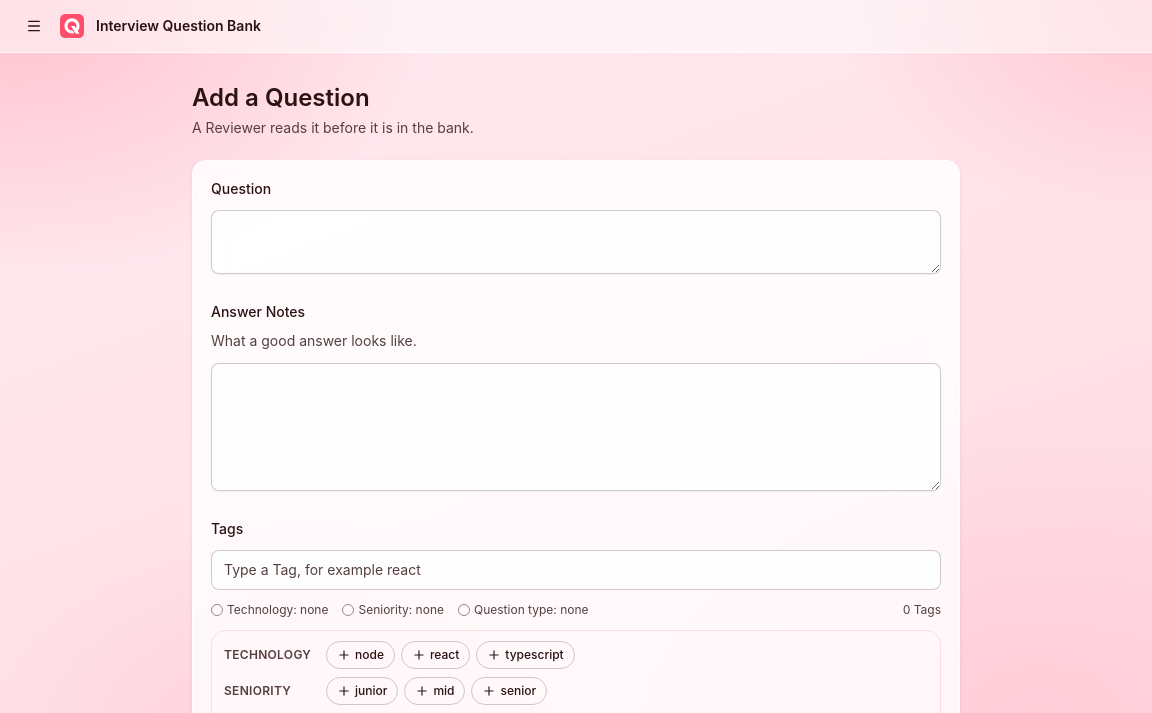
Scenario: adding a Question records where it came from › refuses a Question with no Provenance chosen, before sending anything
The width and height of the screenshot is (1152, 713).
In the text box labelled "Question": (576, 242) [211,210,941,274], type "How would you find a slow query?"
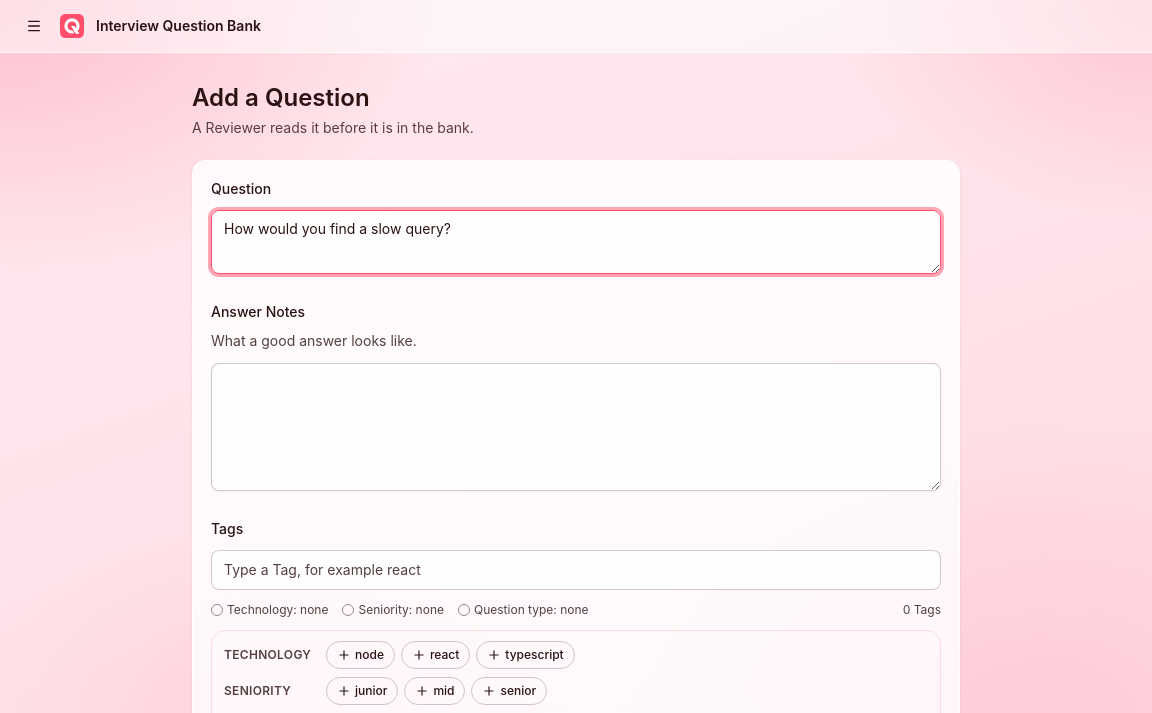
In the text box labelled "Answer Notes": (576, 426) [211,362,941,490], type "Look for EXPLAIN ANALYZE."
(page scrolled)
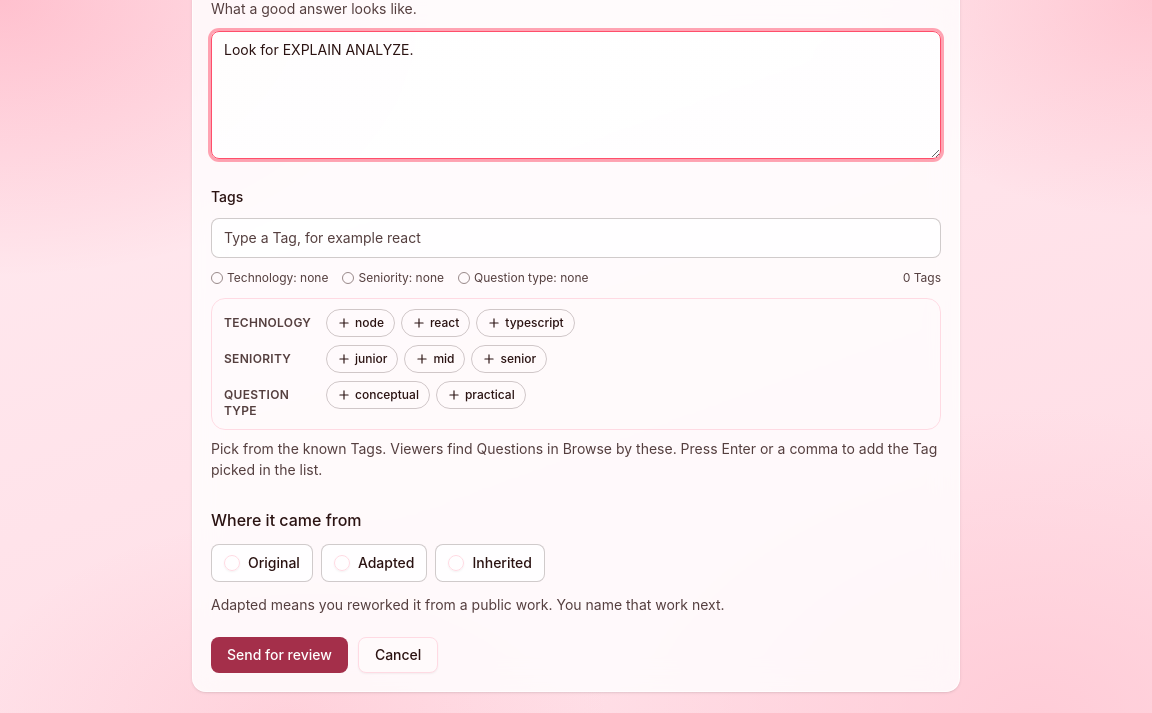
Expected: the radio button named "Original" next to "Original" is not checked, [224,555,240,571]
Click the button "Send for review": (279, 655) [211,637,348,673]
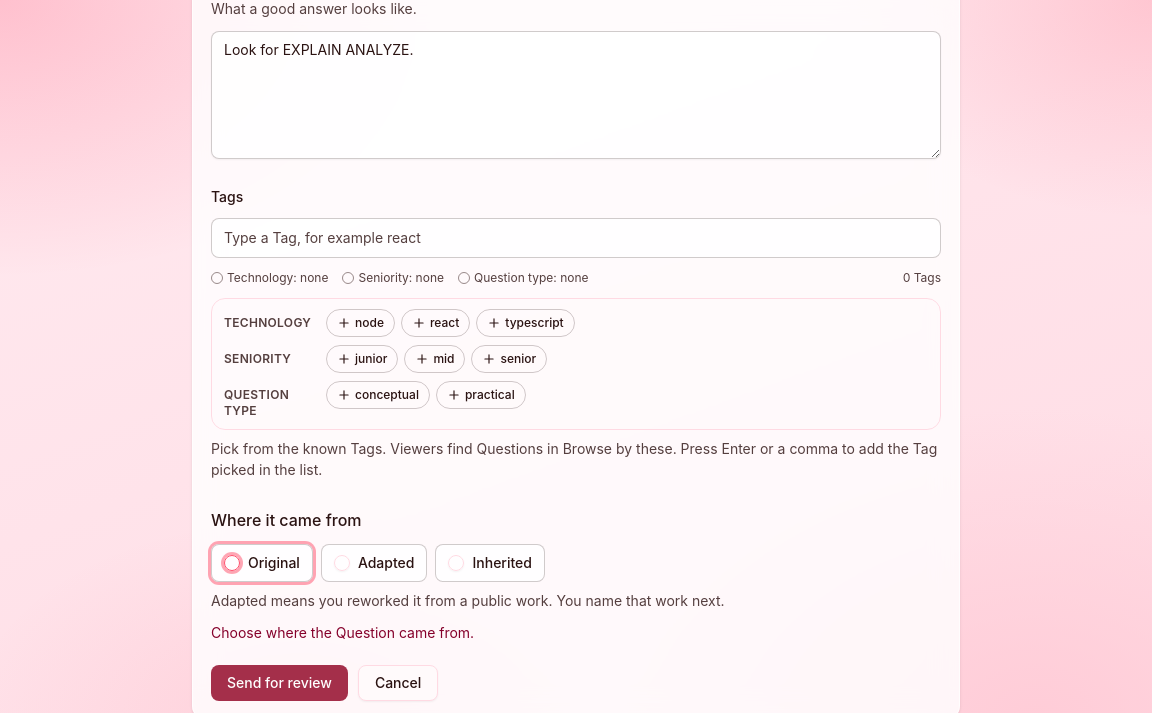
Expected: the text "Choose where the Question came from." is shown, [211,624,474,641]
